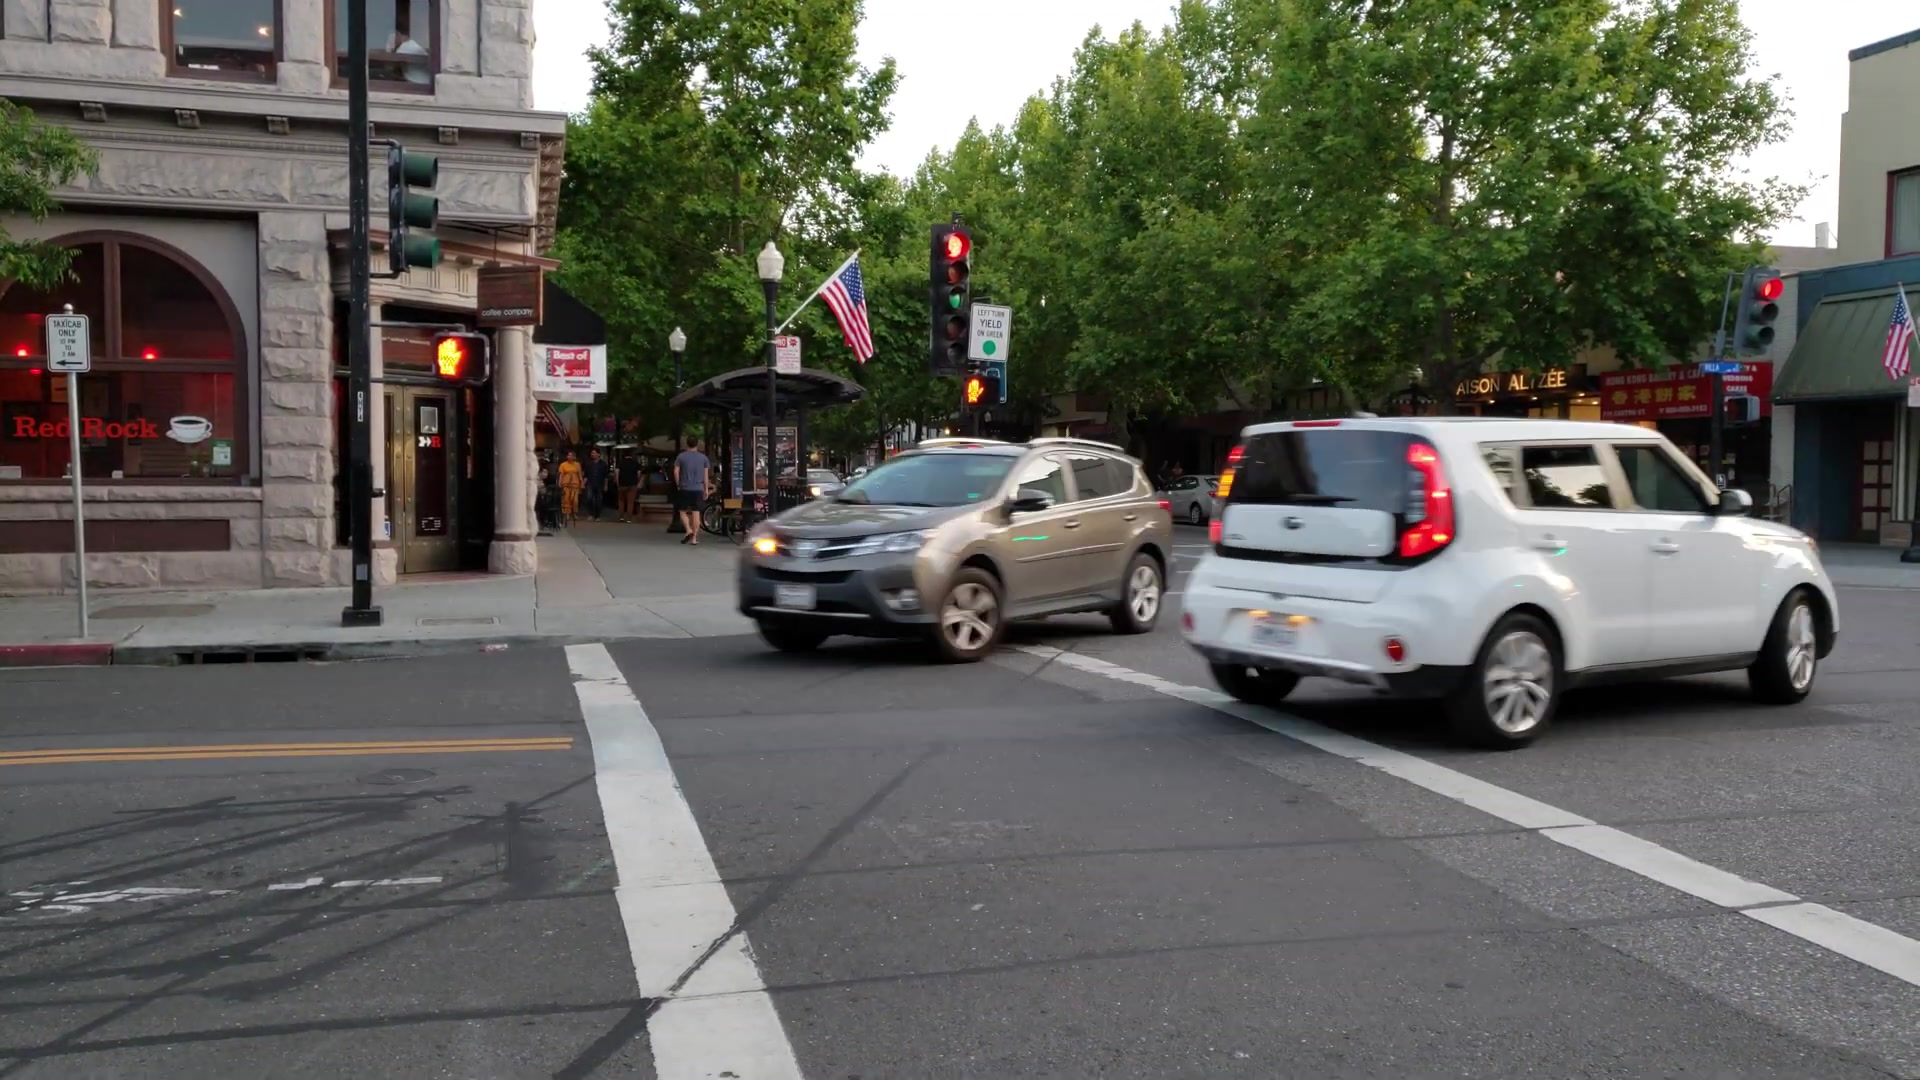vehicle: (1179, 419, 1844, 752), (738, 434, 1176, 662)
